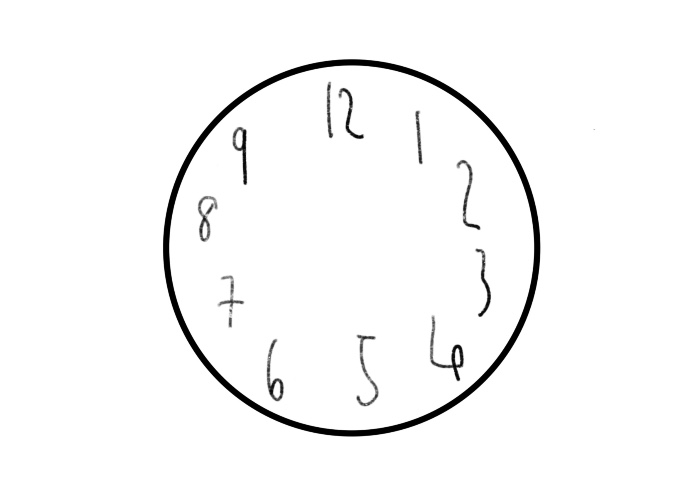eight: (193, 192, 220, 245)
five: (352, 328, 379, 408)
four: (428, 314, 467, 386)
nine: (230, 122, 253, 184)
one: (408, 101, 432, 163)
seven: (216, 270, 246, 329)
six: (262, 335, 287, 404)
three: (471, 248, 493, 317)
twelve: (322, 80, 365, 142)
two: (453, 153, 483, 229)
